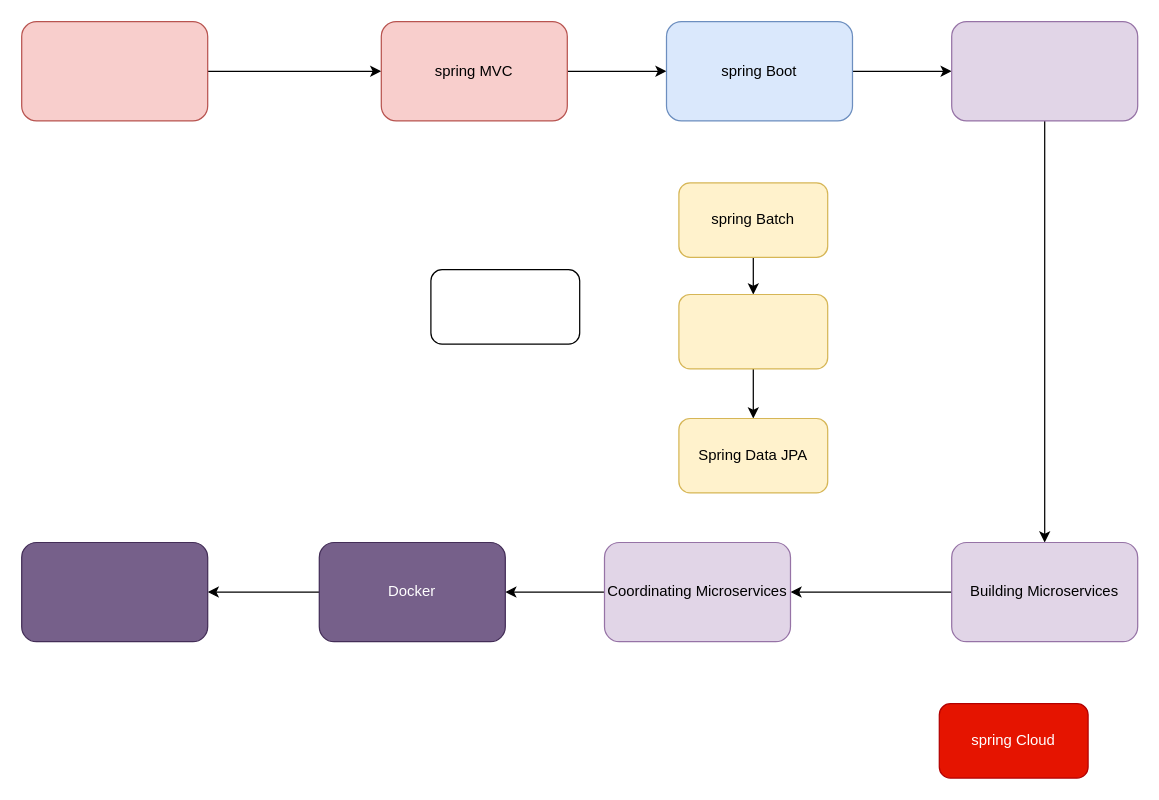
The diagram is 1159 pixels wide and 800 high, and some of its shapes have lost their labels. The centre of each missing label's shape, as x and y in pixels:
"AWS" goes at pixel 114 591.
"Microservices" goes at pixel 1044 70.
"spring core & AOP" goes at pixel 114 70.
"Spring Security" goes at pixel 753 331.
